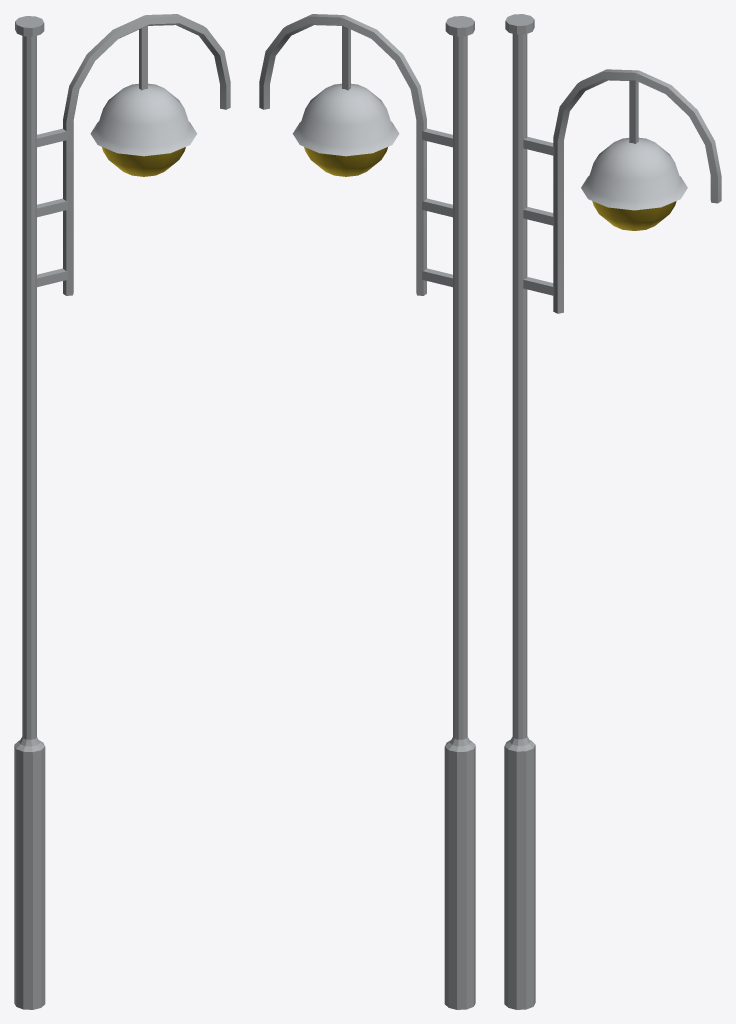
The model's file is SM_streetlamp_modern.fbx.
The picture shows the model from 3 angles, left to right: view 1: azimuth 30°, elevation 25°; view 2: azimuth 150°, elevation 25°; view 3: azimuth 330°, elevation 25°; orthographic projection.
Parts seen in each view (by area): view 1: Cylinder028; view 2: Cylinder028; view 3: Cylinder028.
Boxes of the visible parts, left/top/right/bottom form: Cylinder028: left=14, top=14, right=230, bottom=1009; Cylinder028: left=259, top=14, right=475, bottom=1009; Cylinder028: left=504, top=14, right=721, bottom=1009.
Size of the model in its own units: 46.39 by 20.17 by 204.
